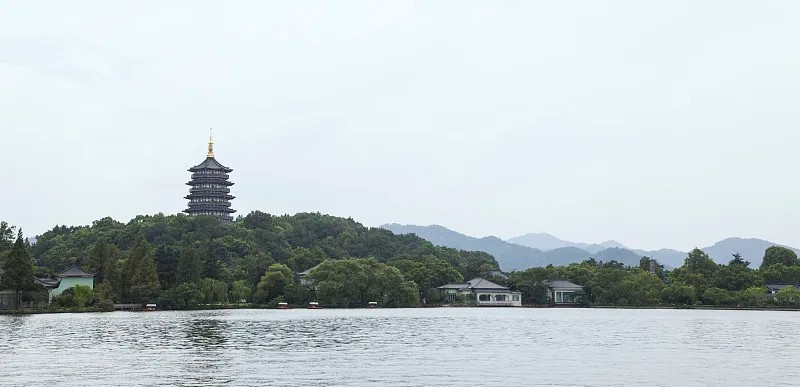Leifeng: (183, 129, 237, 224)
